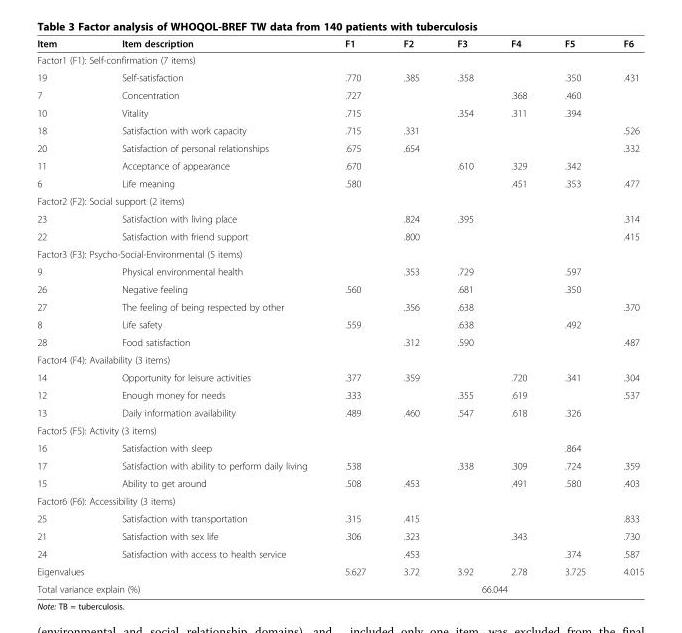table: (36, 37, 643, 594)
table column: (102, 37, 325, 594), (36, 37, 102, 594), (325, 37, 383, 594), (545, 37, 603, 594), (383, 37, 437, 594), (437, 37, 491, 594), (491, 37, 545, 594), (603, 37, 643, 594)
table column header: (36, 37, 643, 51)
table projected row header: (36, 191, 643, 209), (36, 244, 643, 262), (36, 350, 643, 368), (36, 491, 643, 509), (36, 51, 643, 68), (36, 421, 643, 438)
table row: (36, 68, 643, 86), (36, 103, 643, 121), (36, 121, 643, 139), (36, 156, 643, 174), (36, 191, 643, 209), (36, 209, 643, 227), (36, 244, 643, 262), (36, 262, 643, 280), (36, 297, 643, 315), (36, 315, 643, 333), (36, 350, 643, 368), (36, 385, 643, 403), (36, 403, 643, 421), (36, 438, 643, 456), (36, 456, 643, 474), (36, 491, 643, 509), (36, 509, 643, 527), (36, 544, 643, 562), (36, 51, 643, 68), (36, 86, 643, 103), (36, 139, 643, 156), (36, 174, 643, 191), (36, 227, 643, 244), (36, 280, 643, 297), (36, 333, 643, 350), (36, 368, 643, 385), (36, 421, 643, 438), (36, 474, 643, 491), (36, 527, 643, 544), (36, 562, 643, 579), (36, 579, 643, 594), (36, 37, 643, 51)
table spanning cell: (325, 579, 643, 594), (36, 579, 325, 594)
